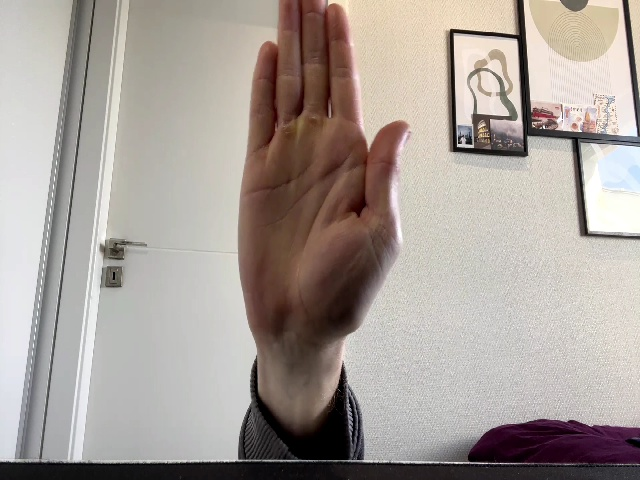B: (236, 1, 411, 365)
